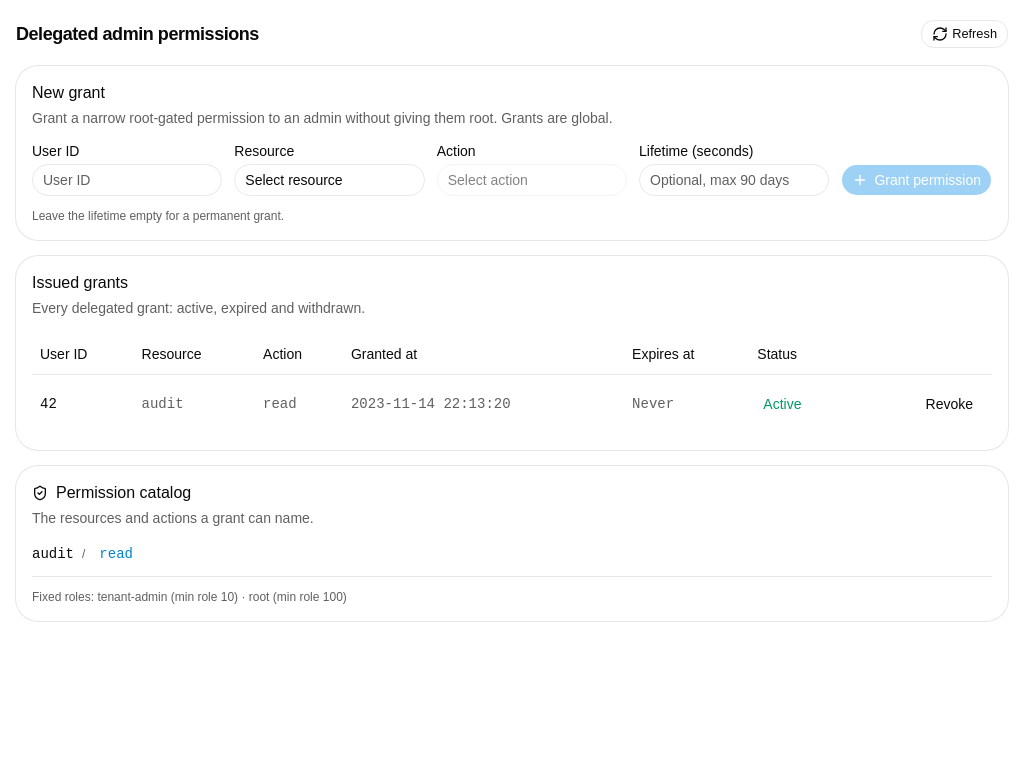
Test case: revoking a grant › sends nothing until the confirmation is accepted, then deletes and refreshes
Click the button with test id "authz-revoke-1".
click(949, 404)  # box [914,390,984,418]
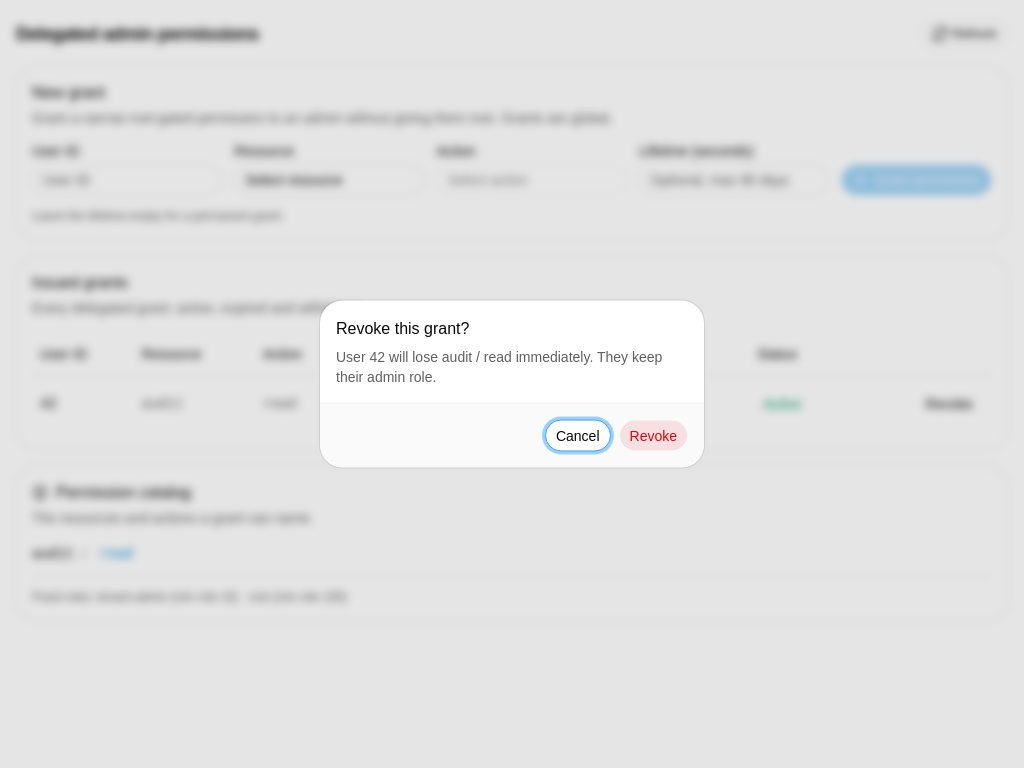
Expected: the heading "Revoke this grant?" is shown, [336,316,469,340]
Click the button "Revoke".
click(653, 436)  # box [618,420,688,452]
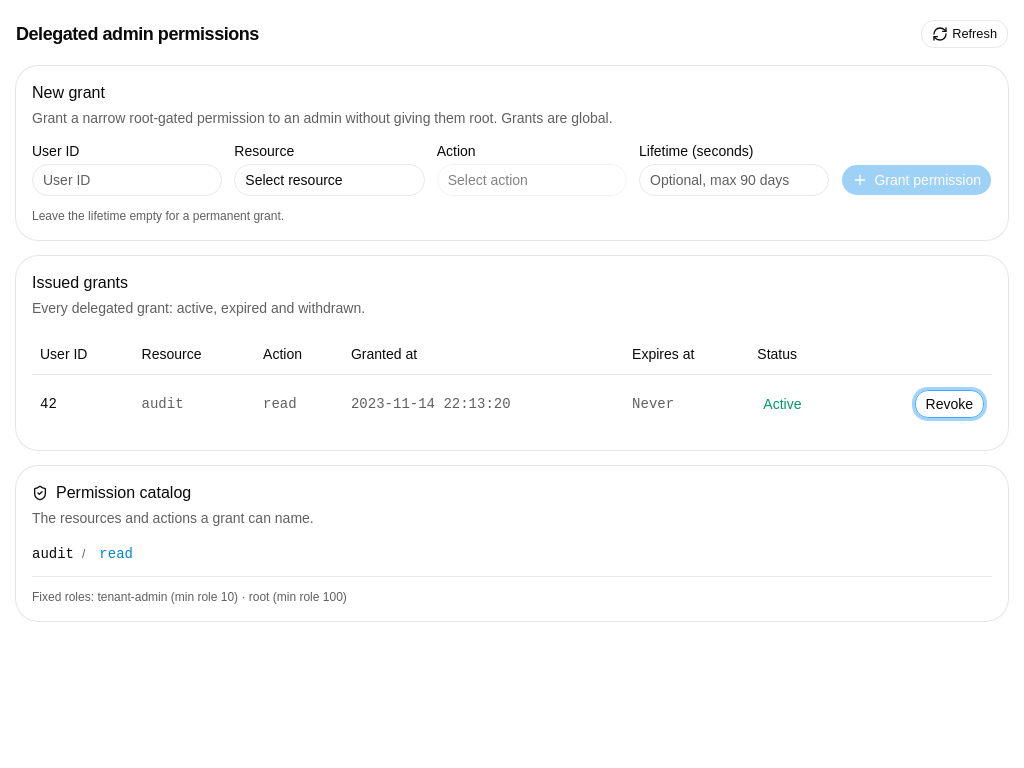
Expected: the heading "Revoke this grant?" is gone
